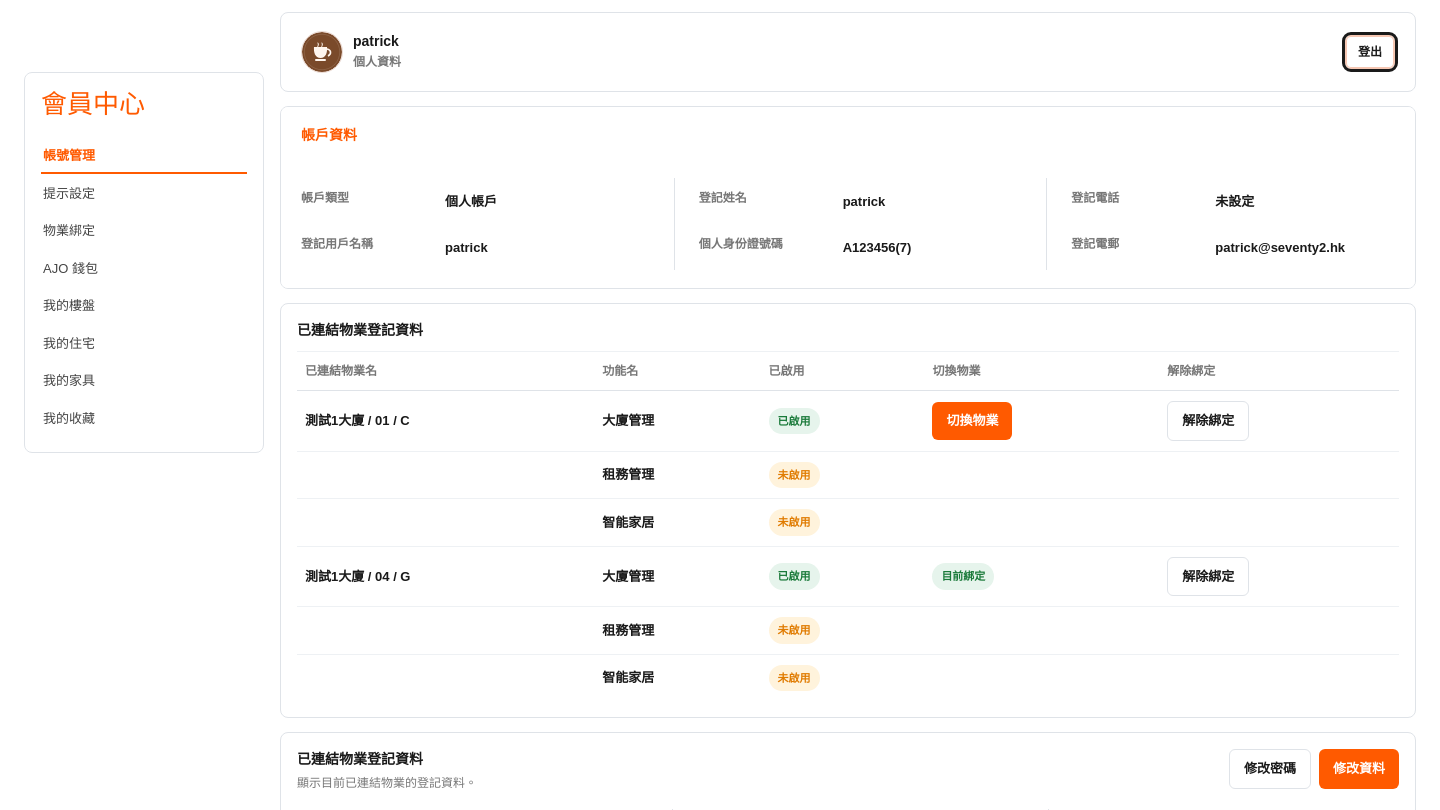
AccountMyPage lazy data loading › updates the member avatar from the account centre portrait
The width and height of the screenshot is (1440, 810).
Click the button with class "work-account-avatar" at [322, 52], box [301,31,343,73]
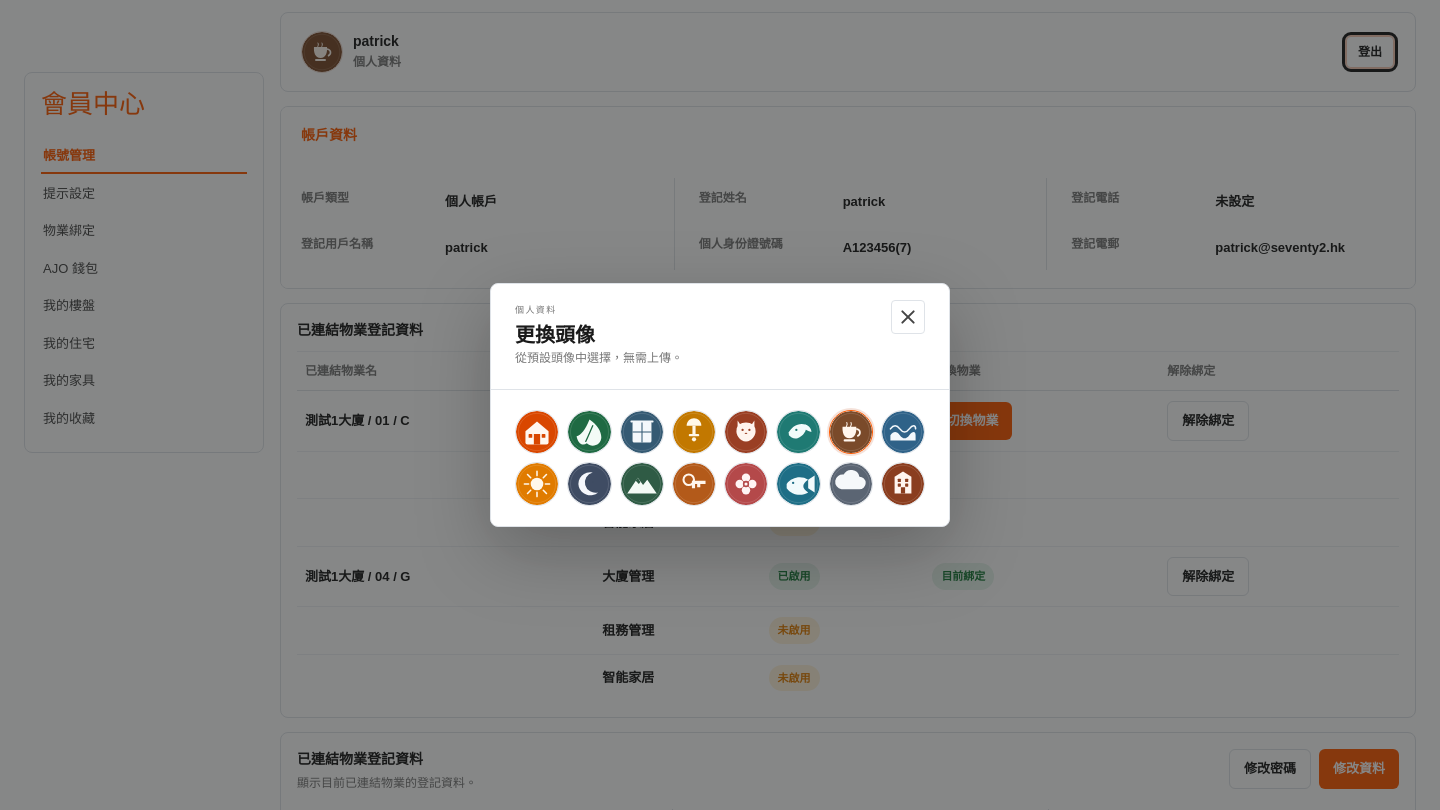
Check: the dialog with class "work-avatar-dialog" is shown, box [490,283,950,527]
Check: the number of buttons with class "work-avatar-picker__item" is 16
Check: the 7th button with class "work-avatar-picker__item" is shown
Click the 7th button with class "work-avatar-picker__item" at [851, 432], box [828,410,873,454]
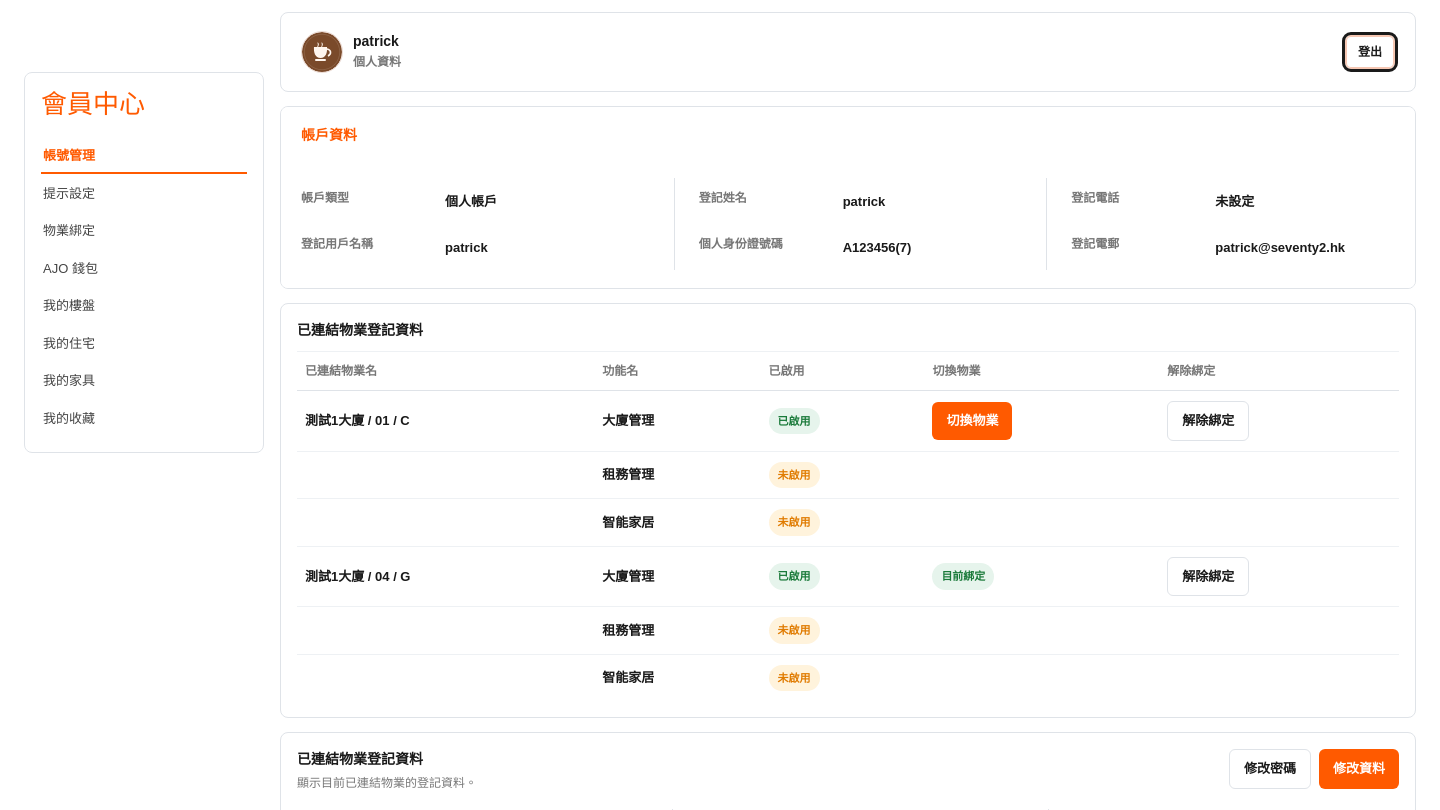
Check: the dialog with class "work-avatar-dialog" is gone
Click the button with class "work-account-avatar" at [322, 52], box [301,31,343,73]
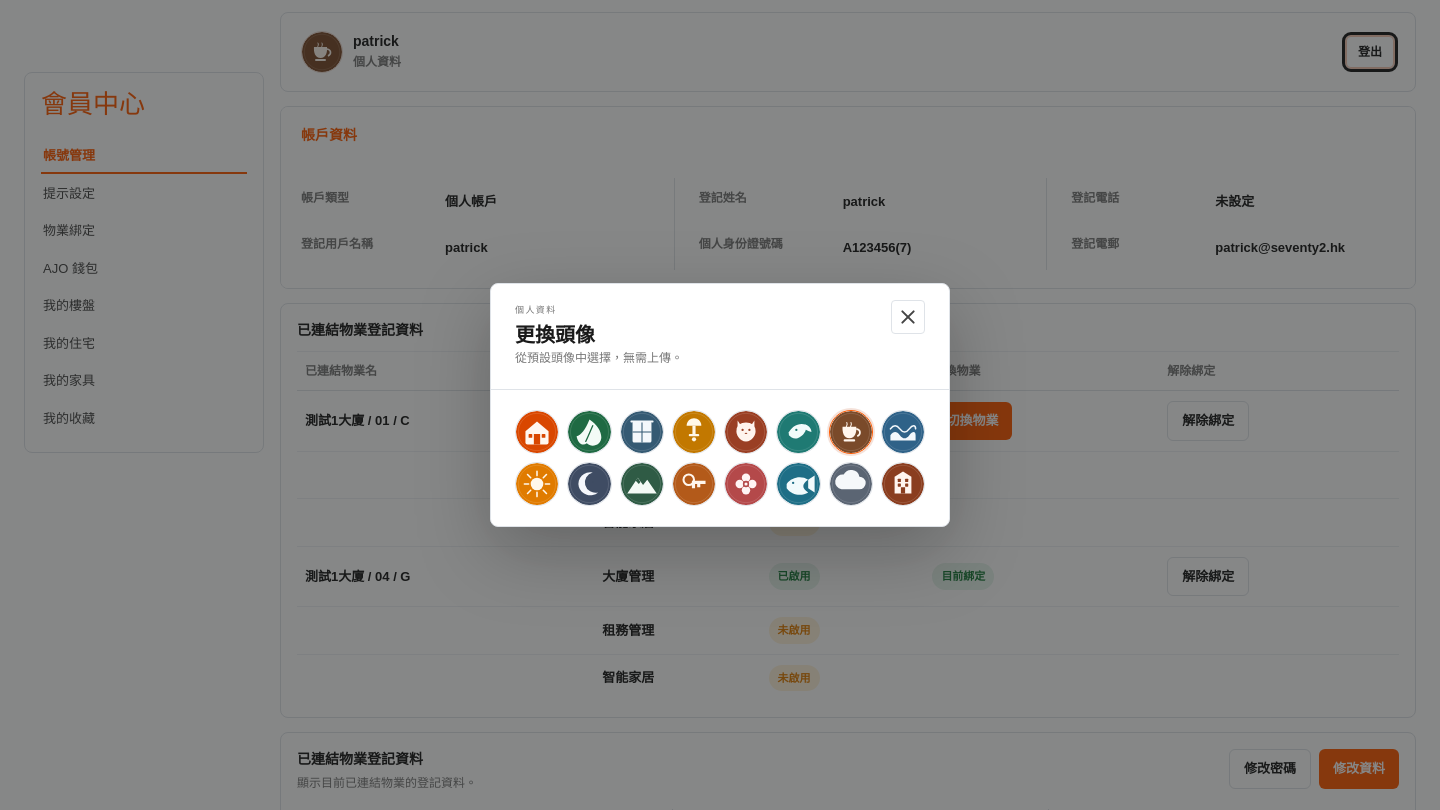
Check: the 3rd button with class "work-avatar-picker__item" is shown
Click the 3rd button with class "work-avatar-picker__item" at [642, 432], box [620,410,664,454]
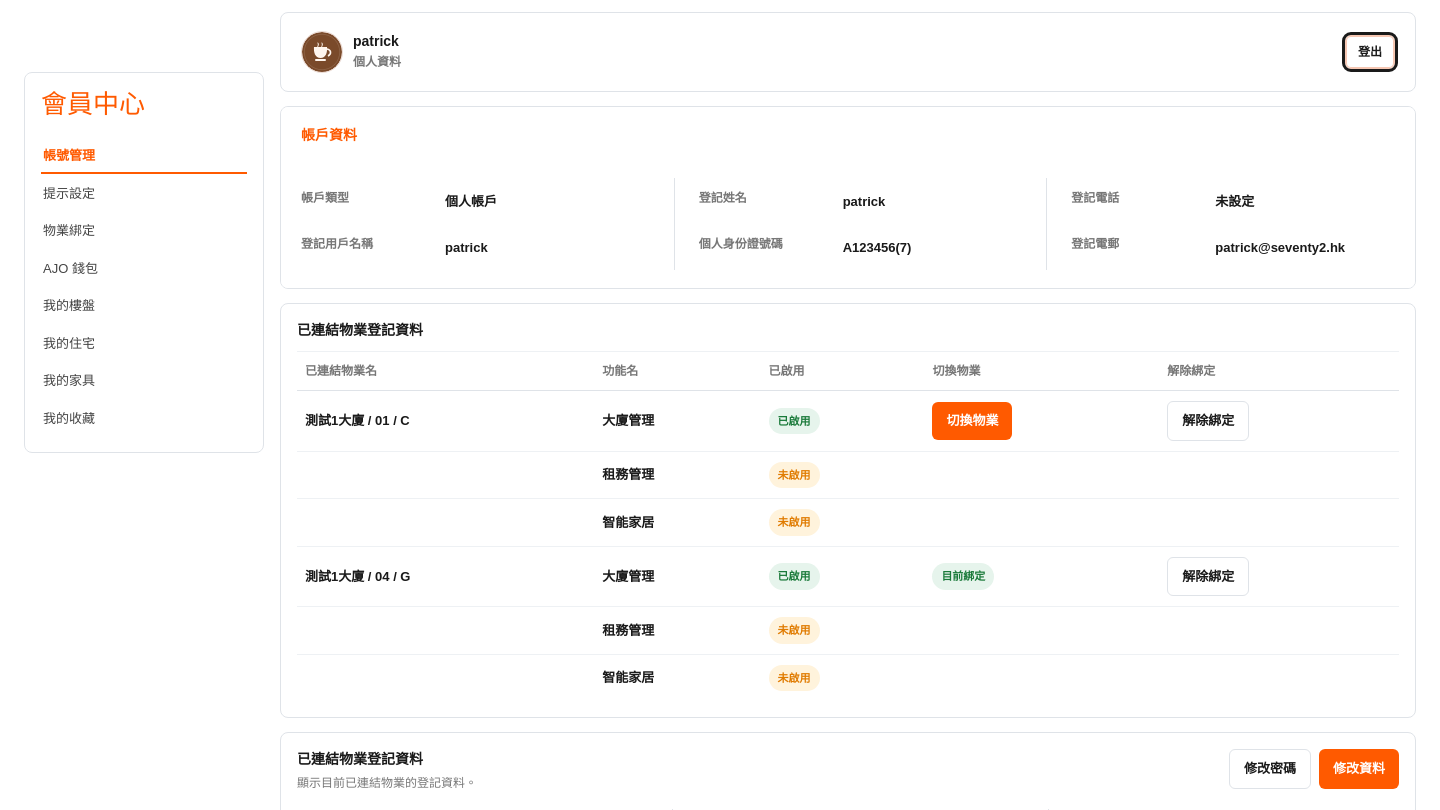
Check: the dialog with class "work-avatar-dialog" is gone
